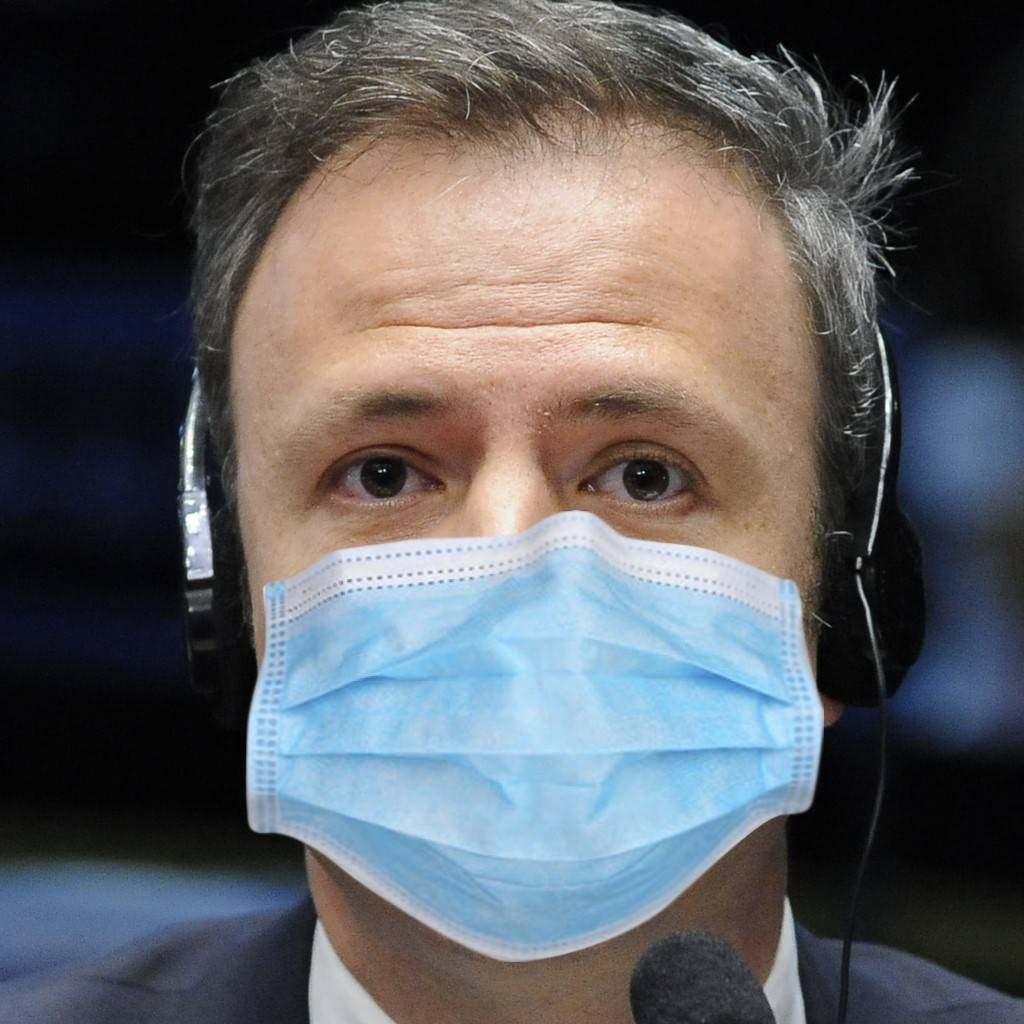con_mascara: (188, 136, 860, 957)
